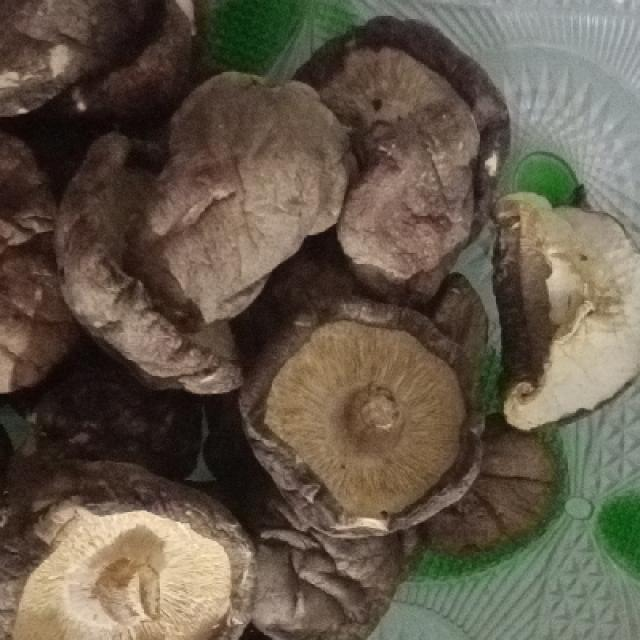Lentinus edodes: (245, 300, 488, 542), (306, 17, 506, 299), (60, 129, 250, 391), (146, 75, 347, 317), (0, 451, 252, 640), (486, 170, 640, 437)
